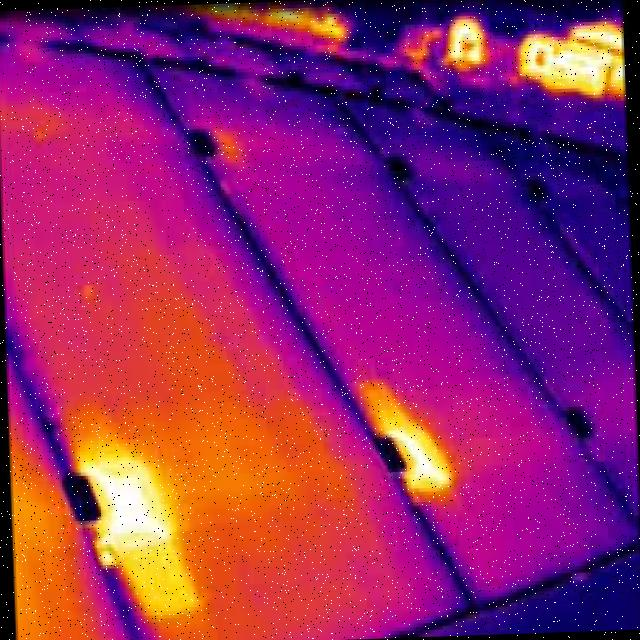Hotspot: (52, 430, 210, 628), (356, 372, 456, 508), (515, 17, 630, 100), (440, 15, 486, 72)
